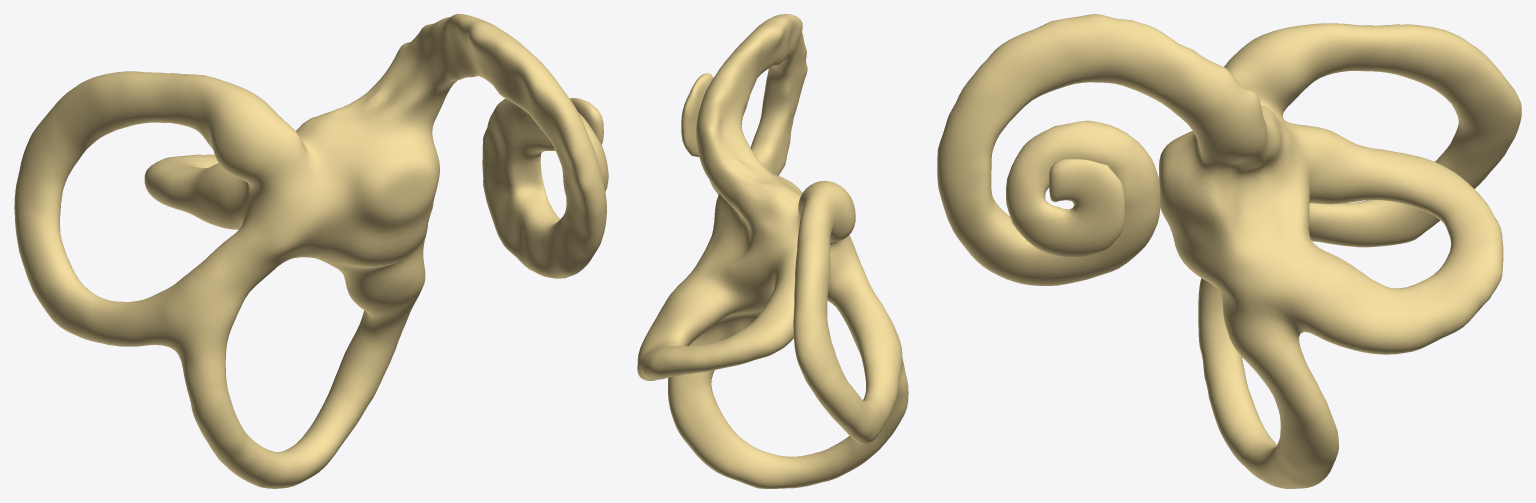
File: scala-vestibuli.glb
The picture shows the model from 3 angles, left to right: view 1: azimuth 30°, elevation 25°; view 2: azimuth 150°, elevation 25°; view 3: azimuth 270°, elevation 25°; orthographic projection. The views are drawn at different scales.
Visible parts, largest first — view 1: 02_Scala Vestibuli.ply; view 2: 02_Scala Vestibuli.ply; view 3: 02_Scala Vestibuli.ply.
Part boxes in pixels (x1,y1,x2,y2): 02_Scala Vestibuli.ply: (14,14,608,488); 02_Scala Vestibuli.ply: (637,14,908,488); 02_Scala Vestibuli.ply: (937,14,1521,488).
Size of the model in its own units: 12.17 by 14.62 by 15.12.
